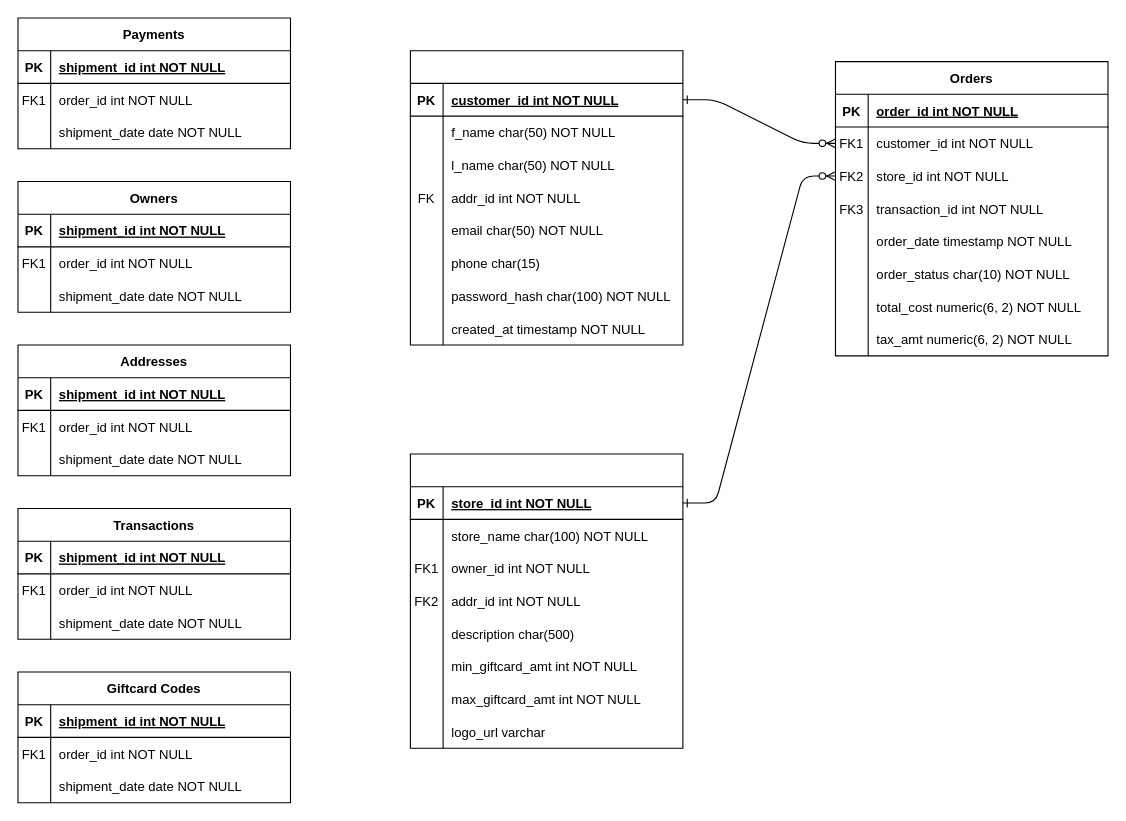
Image size: 1126x821. Some labels were removed from this diagram. The shapes that lost their labels are listed below. From the top down, each one's box as (x1, y1, x2, y2) in pixels, then its label:
(409, 50, 683, 345): Customers
(409, 453, 683, 748): Stores
